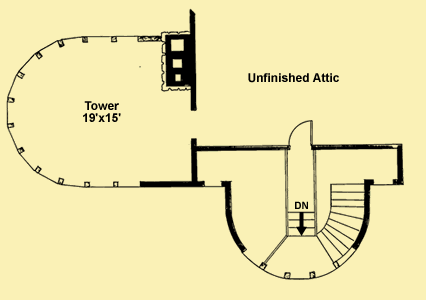door: (286, 118, 315, 151)
stairs: (317, 182, 368, 266), (286, 199, 317, 239)
